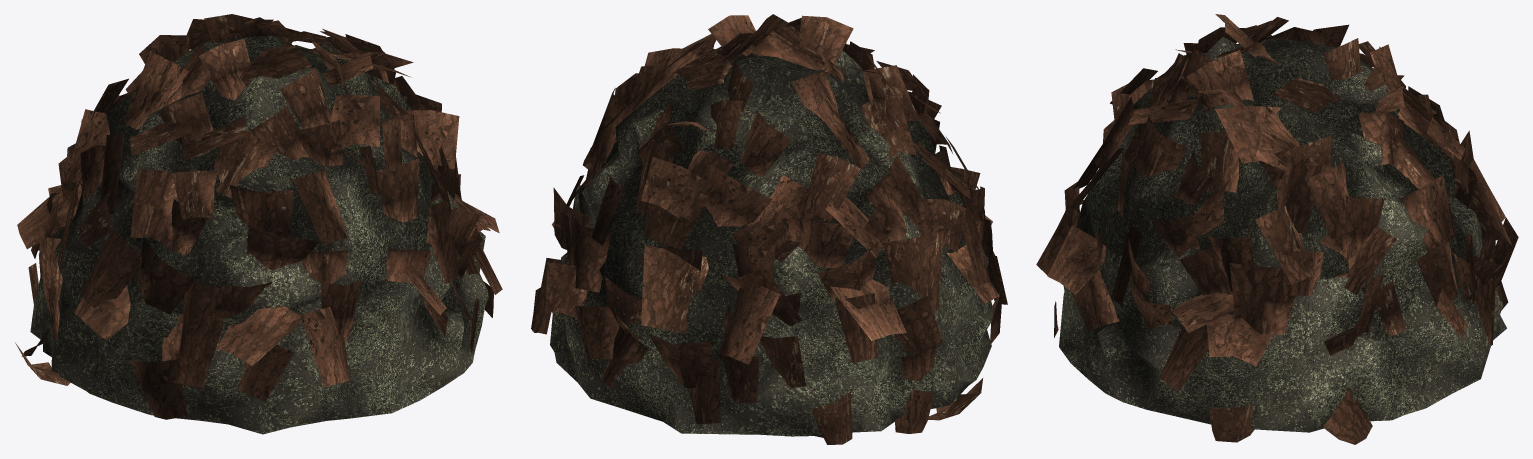
Rendered from mm7_deco_trash_heap.glb.
3 views of the same model, side by side, from view 1: azimuth 30°, elevation 25°; view 2: azimuth 150°, elevation 25°; view 3: azimuth 270°, elevation 25° (orthographic).
Parts seen in each view (by area): view 1: Trashheap; view 2: Trashheap; view 3: Trashheap.
Boxes of the visible parts, x1,y1,x2,y2 form: Trashheap: (15,14,502,434); Trashheap: (531,14,1007,444); Trashheap: (1036,14,1518,444).
Size of the model in its own units: 1.5 by 1.04 by 1.43.
Materials: 2 (2 with a texture image).
